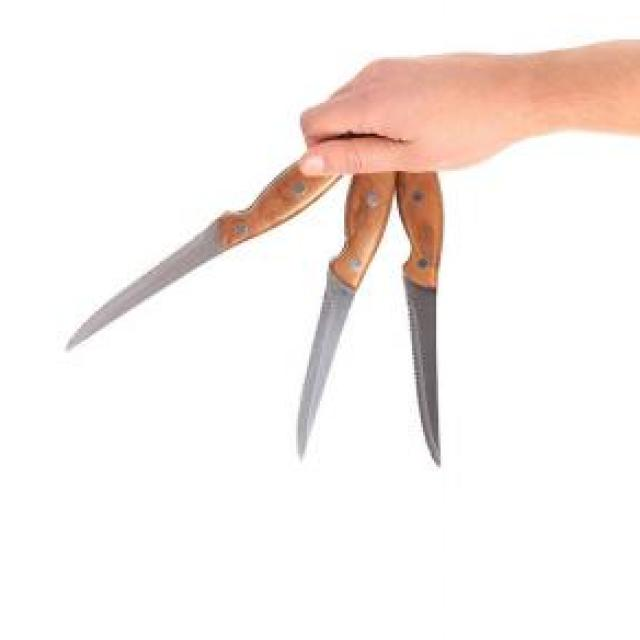knife: (64, 160, 346, 353), (295, 175, 392, 469), (397, 171, 447, 469)
